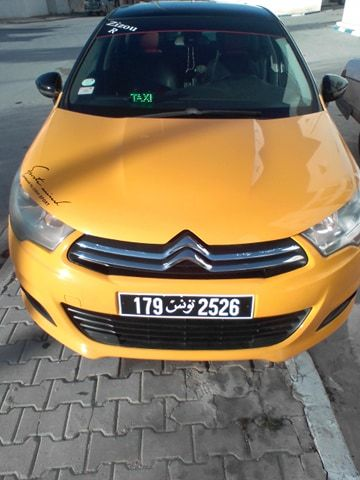LP: (115, 292, 257, 320)
